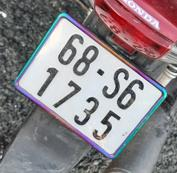1: (30, 63, 65, 102)
3: (69, 92, 106, 131)
5: (86, 105, 127, 146)
6: (111, 74, 151, 117), (52, 28, 88, 71)
7: (46, 75, 86, 115)
8: (69, 38, 105, 82)
S: (96, 61, 134, 105)
